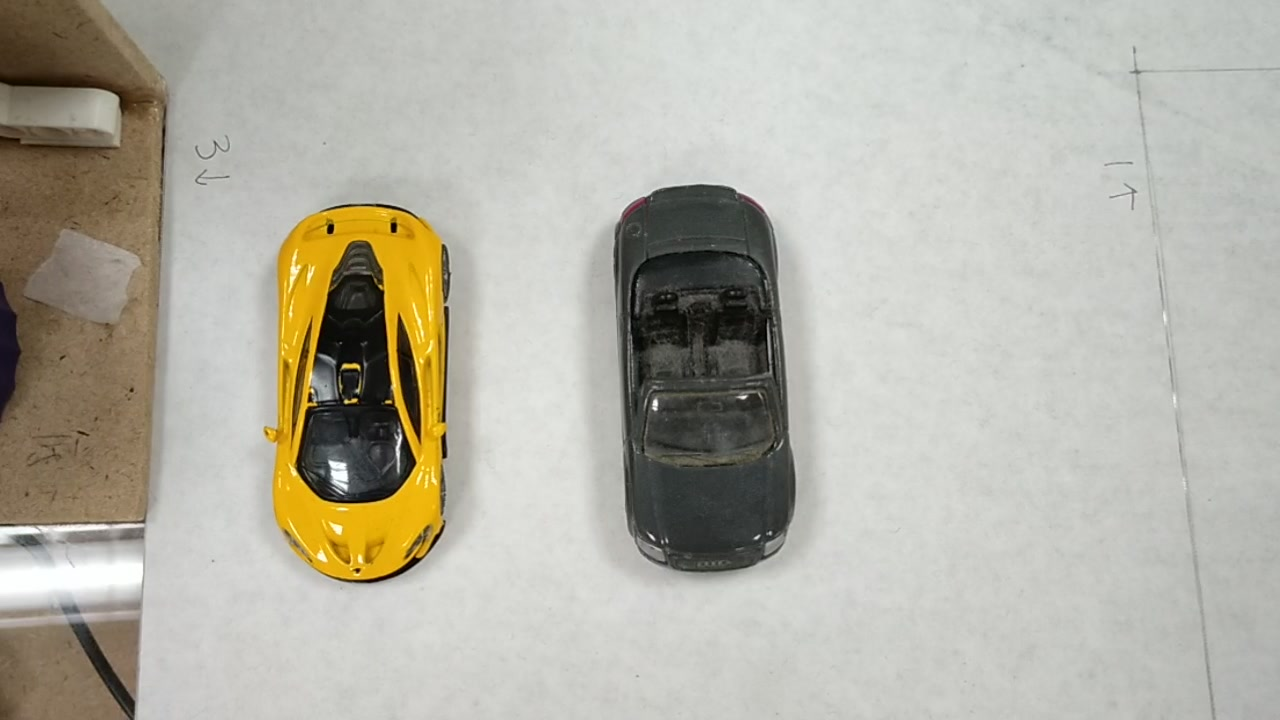car: (268, 215, 457, 566), (621, 195, 785, 546)
